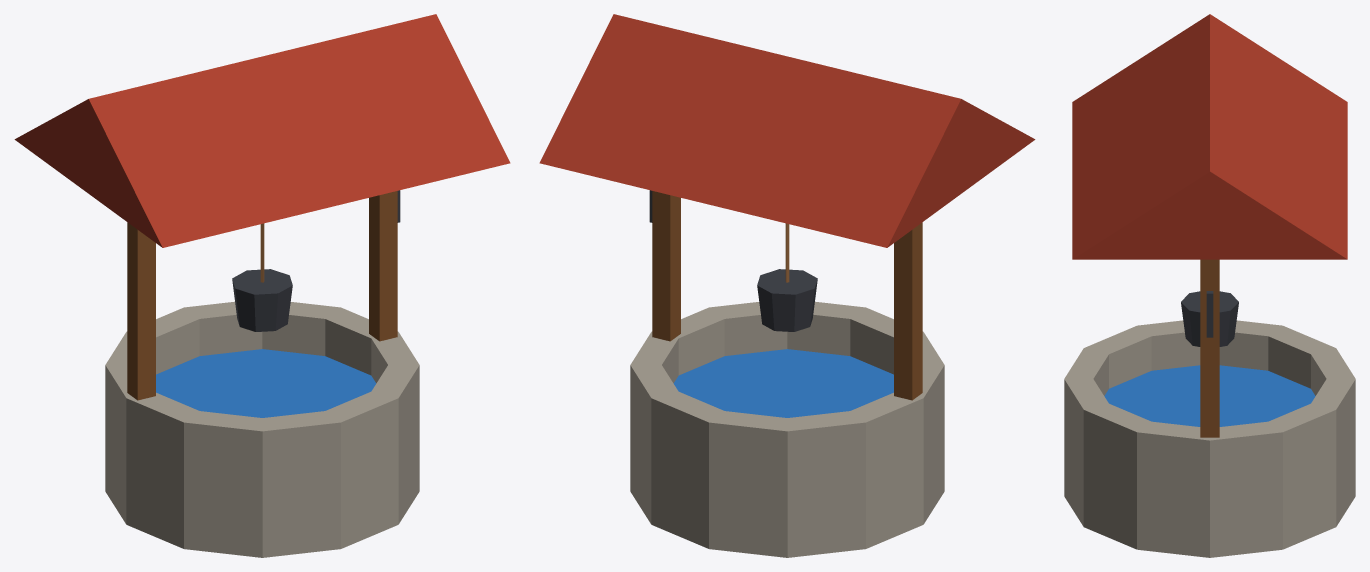
The model's file is well.glb.
The picture shows the model from 3 angles, left to right: view 1: azimuth 30°, elevation 25°; view 2: azimuth 150°, elevation 25°; view 3: azimuth 270°, elevation 25°; orthographic projection. The views are drawn at different scales.
Parts seen in each view (by area): view 1: well; view 2: well; view 3: well.
Boxes of the visible parts, bbox=[...] form: well: bbox=[14, 14, 510, 557]; well: bbox=[539, 14, 1035, 557]; well: bbox=[1064, 14, 1355, 557].
Bounding box in the file's own units: 2.3 × 2.75 × 1.8.
